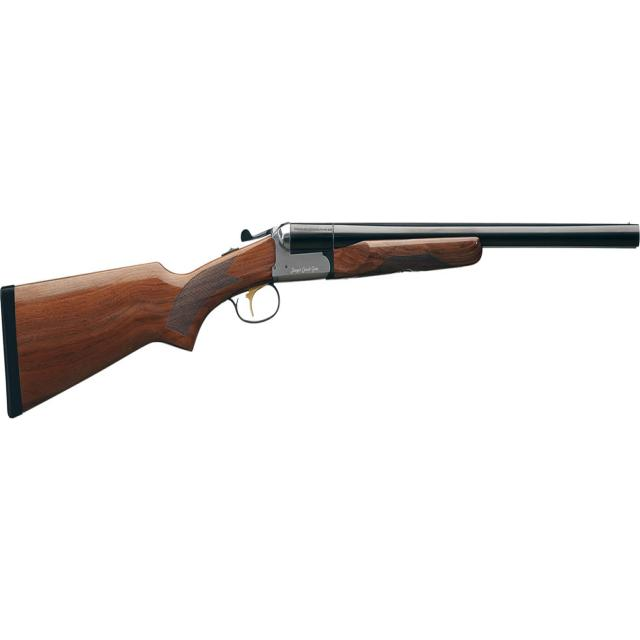gun: (4, 218, 640, 420)
